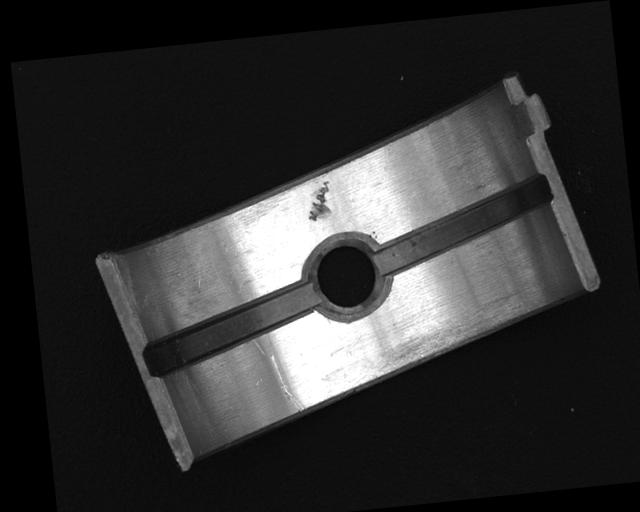bruise: (304, 178, 334, 223)
gap: (370, 172, 555, 277), (138, 282, 323, 376)
hole: (298, 232, 393, 321)
nick: (271, 352, 307, 415)
scratch: (311, 283, 544, 396)
